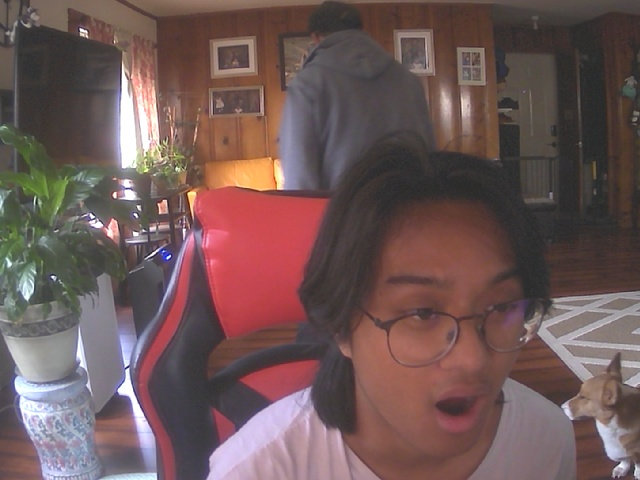fear: (325, 160, 553, 462)
